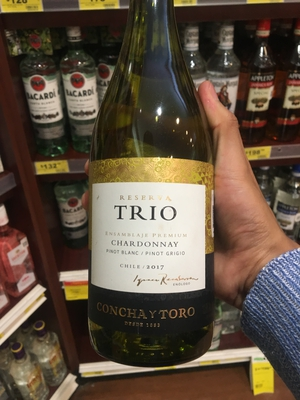trio chardonnay: (84, 35, 219, 357)
